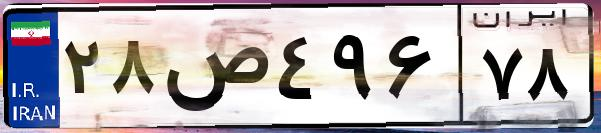2: (57, 26, 110, 100)
4: (270, 28, 330, 110)
6: (385, 28, 445, 110)
7: (475, 38, 525, 113)
8: (525, 38, 570, 115), (110, 28, 158, 98)
9: (330, 28, 385, 110)
ص: (158, 20, 270, 120)
